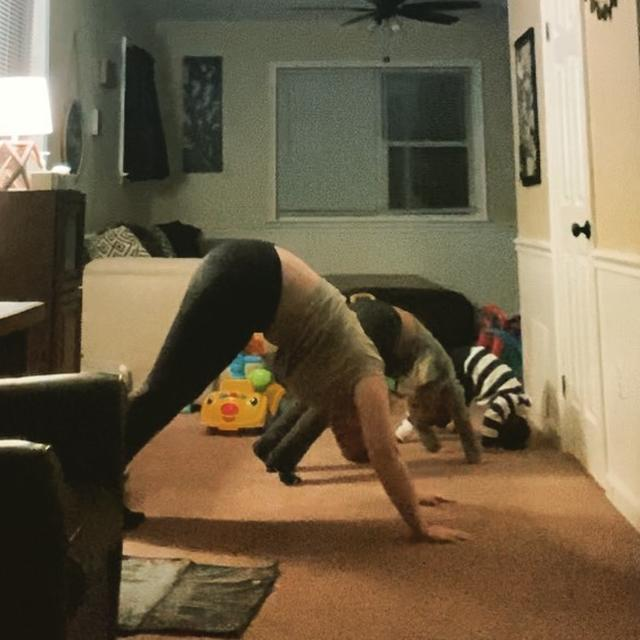Downward-Facing_Dog: (61, 236, 479, 547)
